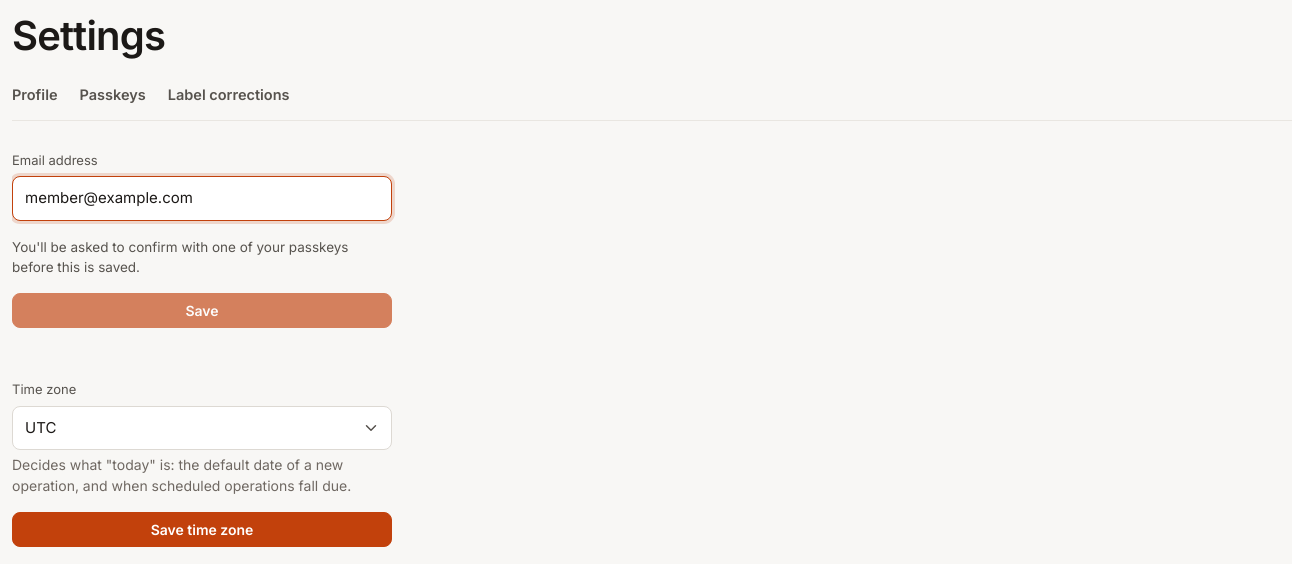
Test: ProfilePage › re-enables Save once the field is edited back away from the current address, and disables it again once restored
Replace the text in the field labelled "Email address" with "other@example.com" at (202, 199), box left=12, top=176, right=392, bottom=221
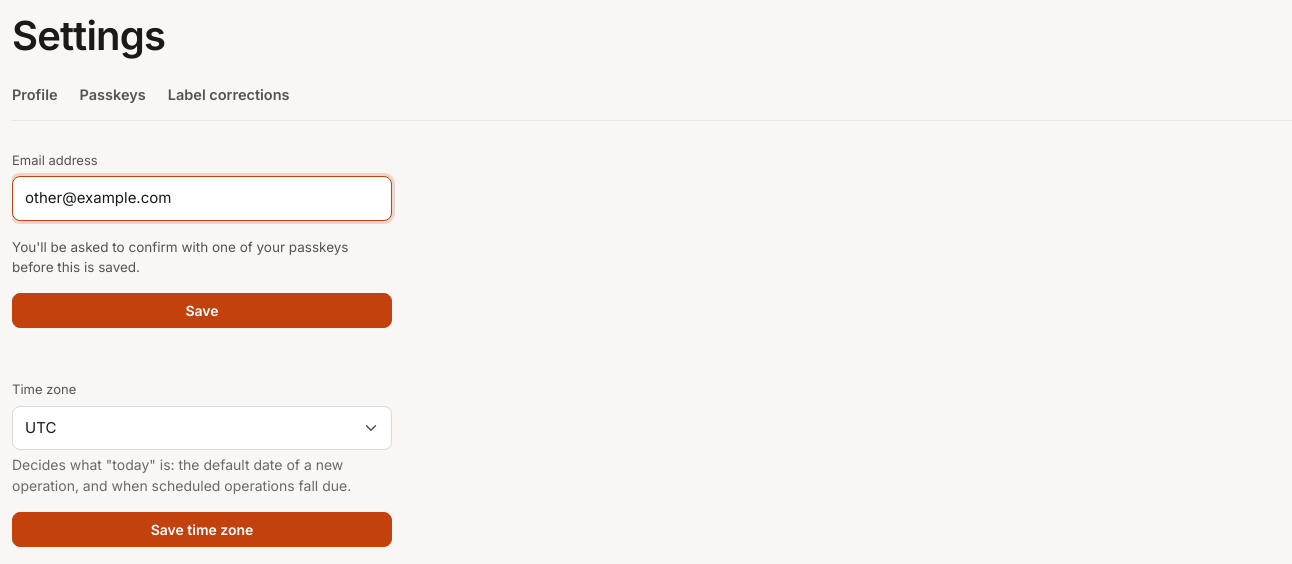
Check: the submit button is enabled, box left=12, top=293, right=392, bottom=328
Replace the text in the field labelled "Email address" with "member@example.com" at (202, 199), box left=12, top=176, right=392, bottom=221
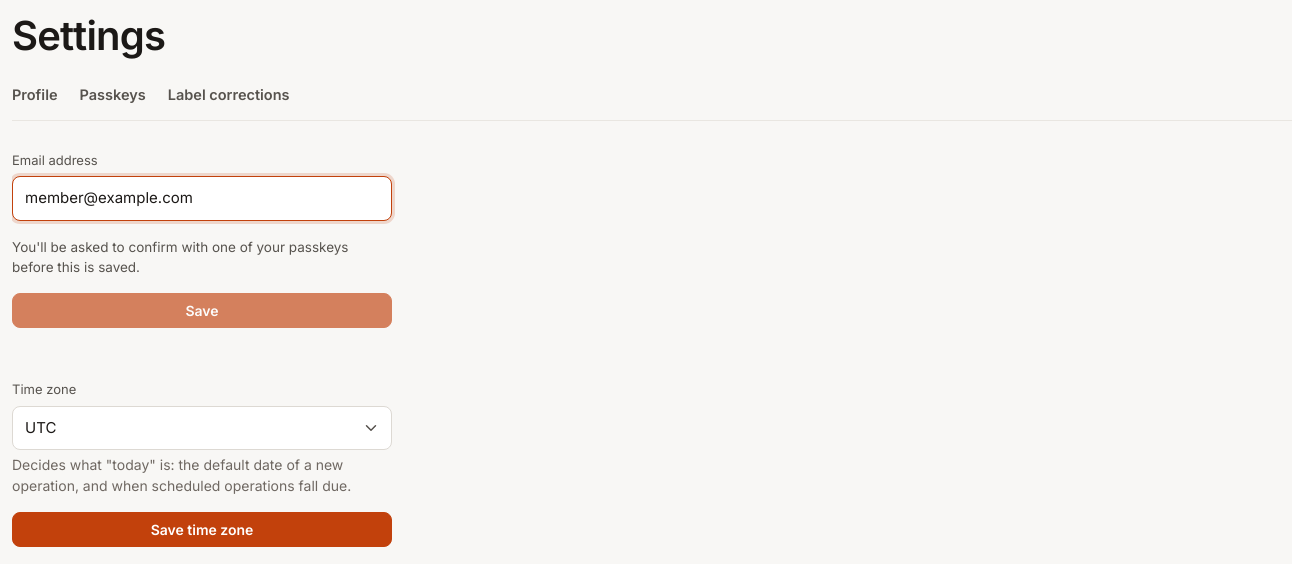
Check: the submit button is disabled, box left=12, top=293, right=392, bottom=328
